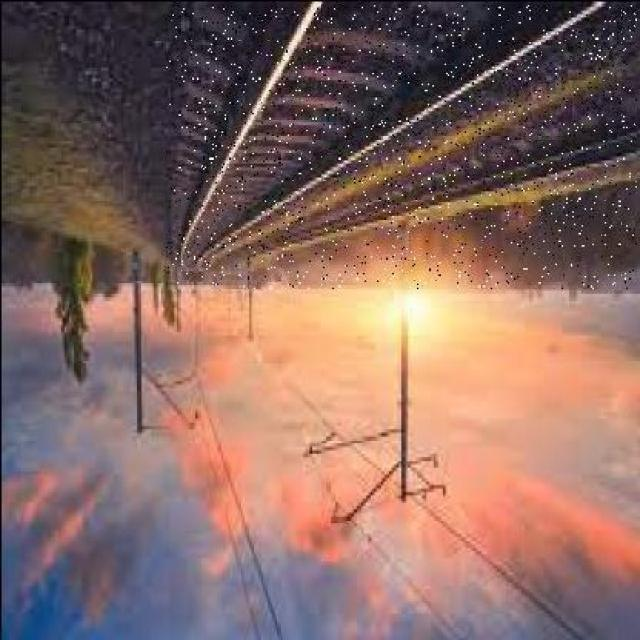rail: (167, 6, 636, 287)
